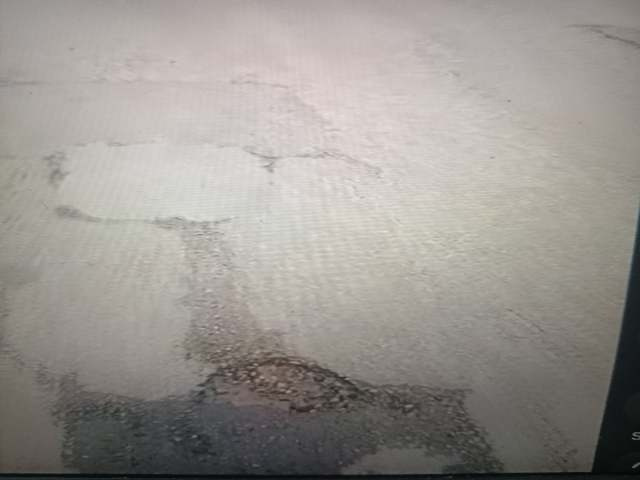pothole: (109, 404, 327, 480)
